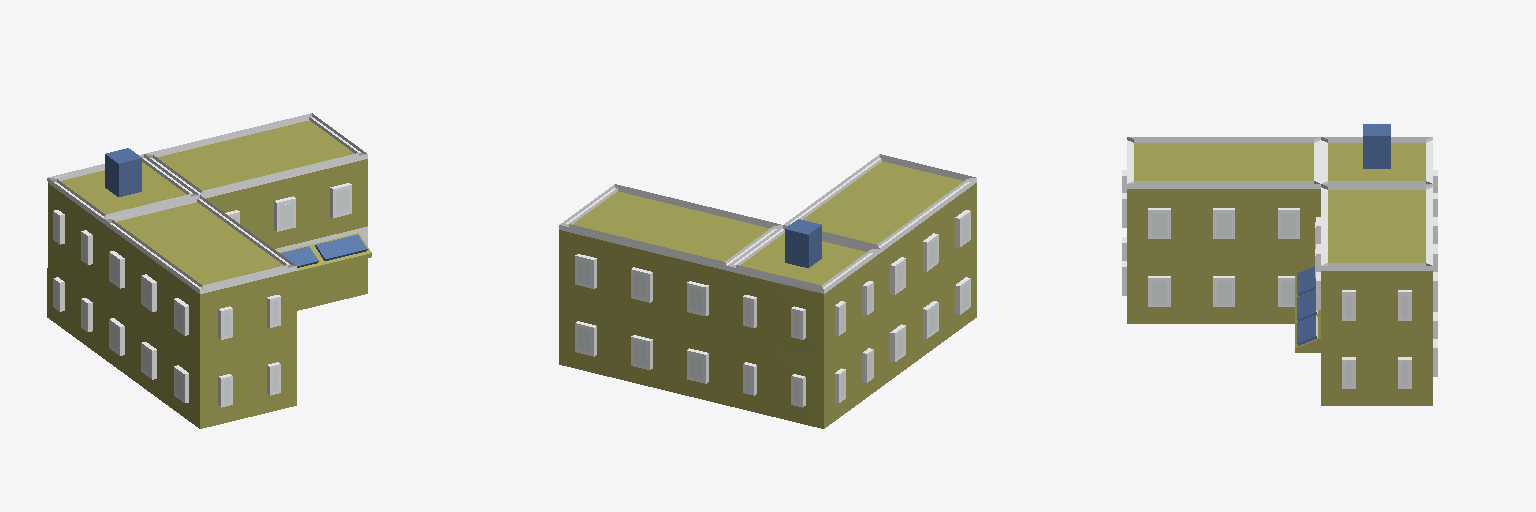
File: 蓝黄房子.obj
3 views of the same model, side by side, from view 1: azimuth 30°, elevation 25°; view 2: azimuth 150°, elevation 25°; view 3: azimuth 270°, elevation 25° (orthographic).
Parts seen in each view (by area): view 1: 左四; view 2: 左四; view 3: 左四.
Boxes of the visible parts, x1=… form: 左四: x1=47, y1=113, x2=371, y2=428; 左四: x1=559, y1=154, x2=976, y2=428; 左四: x1=1122, y1=124, x2=1437, y2=405.
Bounding box in the file's own units: 2107 × 1250 × 2107.